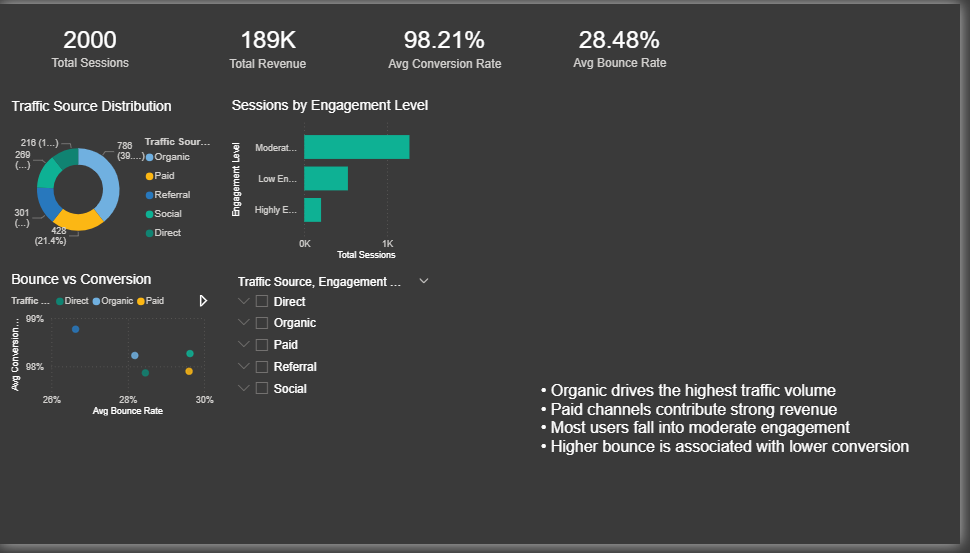

The page's visual inventory and layout, read from the dashboard file:
{"tool":"powerbi","page":{"name":"Executive Overview","canvas":[1280,720],"ordinal":0},"visuals":[{"type":"card","fields":{"Values":["website_data.Total Sessions"]},"box":[10,0,220,110],"z":0},{"type":"card","fields":{"Values":["website_data.Avg Conversion Rate"]},"box":[481.2,0,221.2,111.2],"z":1000},{"type":"card","fields":{"Values":["website_data.Avg Bounce Rate"]},"box":[716.2,0,220,110],"z":2000},{"type":"card","fields":{"Values":["website_data.Total Revenue"]},"box":[245,0,221.2,111.2],"z":3000},{"type":"donutChart","title":"Traffic Source Distribution","fields":{"Category":["website_data.Traffic Source"],"Y":["website_data.Total Sessions"]},"box":[10,125,280,221.2],"z":4000},{"type":"scatterChart","title":"Bounce vs Conversion","fields":{"X":["website_data.Avg Bounce Rate"],"Y":["website_data.Avg Conversion Rate"],"Series":["website_data.Traffic Source"]},"box":[10,356.2,280,197.5],"z":5000},{"type":"clusteredBarChart","title":"Sessions by Engagement Level","fields":{"Y":["website_data.Total Sessions"],"Category":["website_data.Engagement Level"]},"box":[304,124,280,222],"z":6000},{"type":"slicer","fields":{"Values":["website_data.Traffic Source","website_data.Engagement Level","website_data.Page View Group"]},"box":[303.8,356.2,280,221.2],"z":7000},{"type":"textbox","box":[716,498,564,222],"z":8000}]}

Visuals, with their boxes in screenshot pixels (x1, y1, x2, y2), scaled from the page's 1280x720 canvas onto the 970x553 screenshot:
card - website_data.Total Sessions: l=8, t=0, r=174, b=84
card - website_data.Avg Conversion Rate: l=365, t=0, r=532, b=85
card - website_data.Avg Bounce Rate: l=543, t=0, r=709, b=84
card - website_data.Total Revenue: l=186, t=0, r=353, b=85
"Traffic Source Distribution" donutChart: l=8, t=96, r=220, b=266
"Bounce vs Conversion" scatterChart: l=8, t=274, r=220, b=425
"Sessions by Engagement Level" clusteredBarChart: l=230, t=95, r=443, b=266
slicer - website_data.Traffic Source x website_data.Engagement Level: l=230, t=274, r=442, b=443
textbox: l=543, t=382, r=969, b=552
